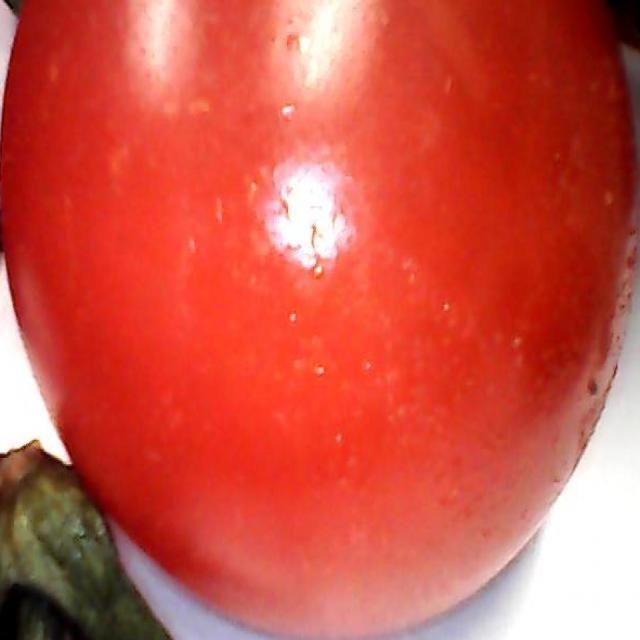Healthy Fruit: (0, 3, 420, 423)
